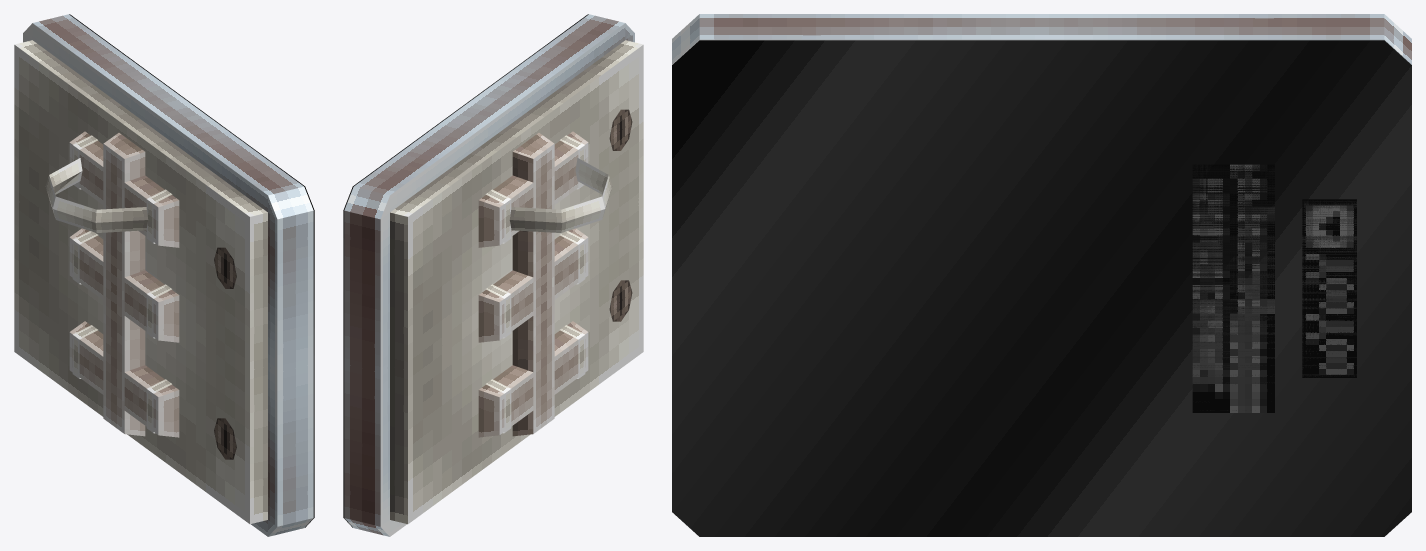
File: arms7139.obj
The picture shows the model from 3 angles, left to right: view 1: azimuth 30°, elevation 25°; view 2: azimuth 150°, elevation 25°; view 3: azimuth 270°, elevation 25°; orthographic projection. The views are drawn at different scales.
Parts seen in each view (by area): view 1: arms7139; view 2: arms7139; view 3: arms7139.
Boxes of the visible parts, x1,y1,x2,y2 form: arms7139: (14,14,314,536); arms7139: (343,14,643,536); arms7139: (672,14,1411,536).
Bounding box in the file's own units: 0.2675 × 0.648 × 0.8748.
Materials: 2 (2 with a texture image).
